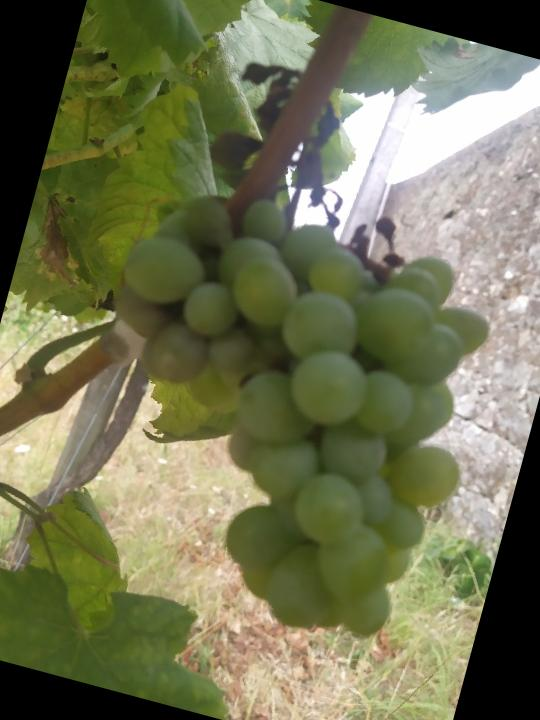grape: (40, 37, 540, 663)
